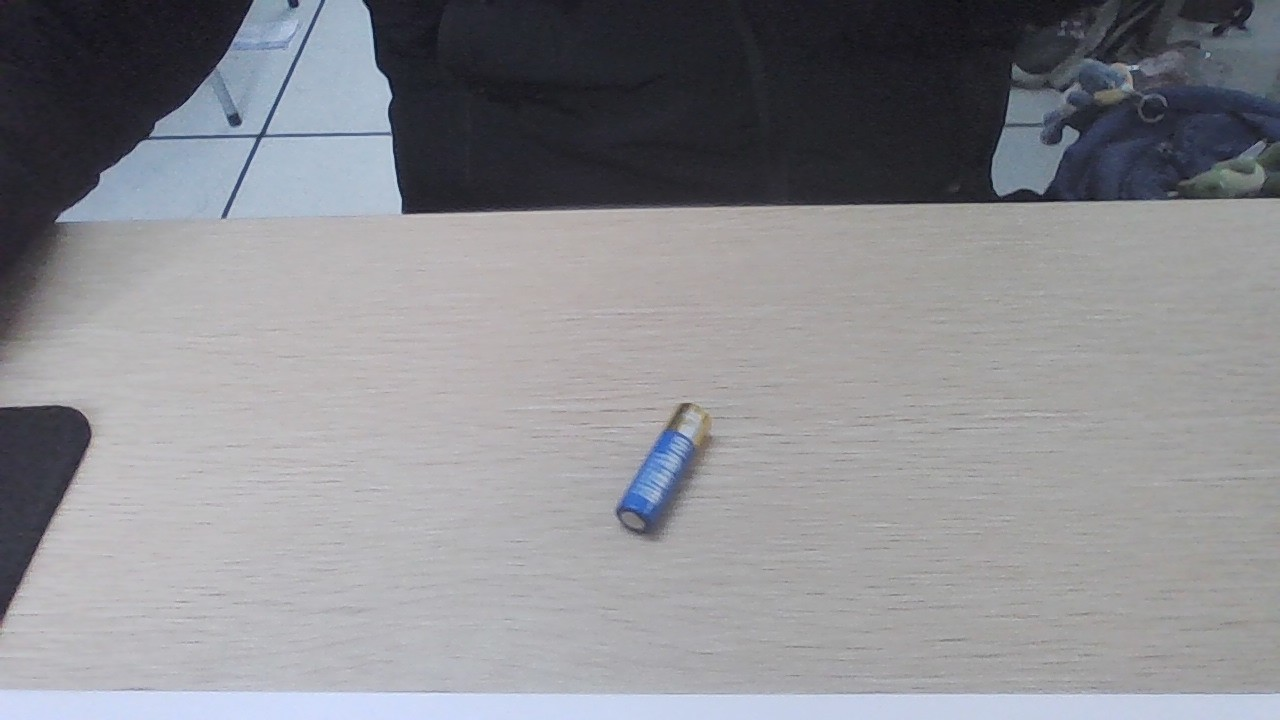YH-battery: (615, 404, 706, 531)
